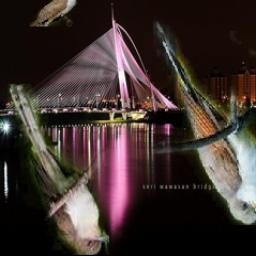Cuckoo: (154, 18, 256, 225), (9, 85, 110, 256), (29, 0, 82, 26)
